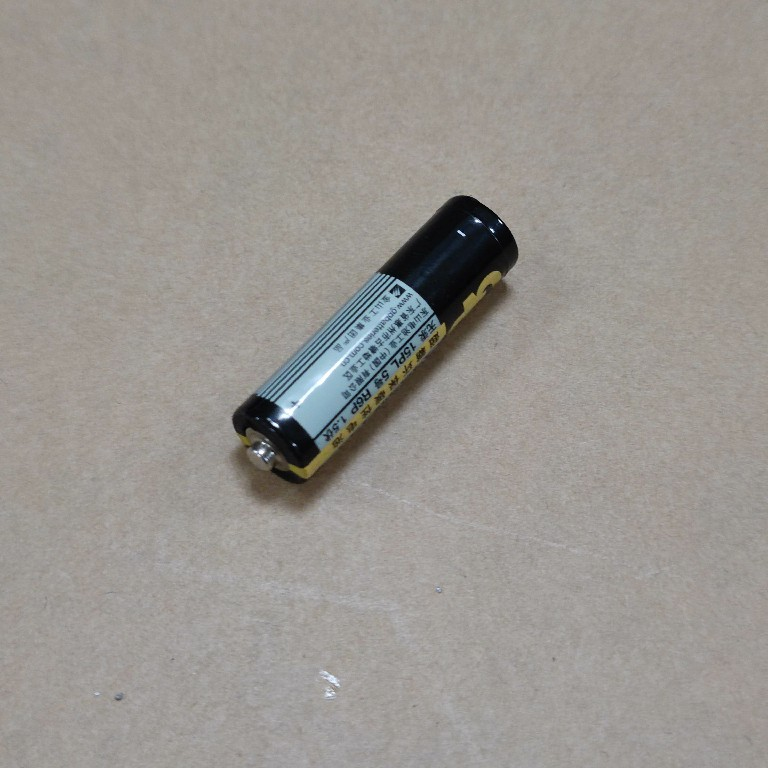charge: (228, 191, 522, 486)
